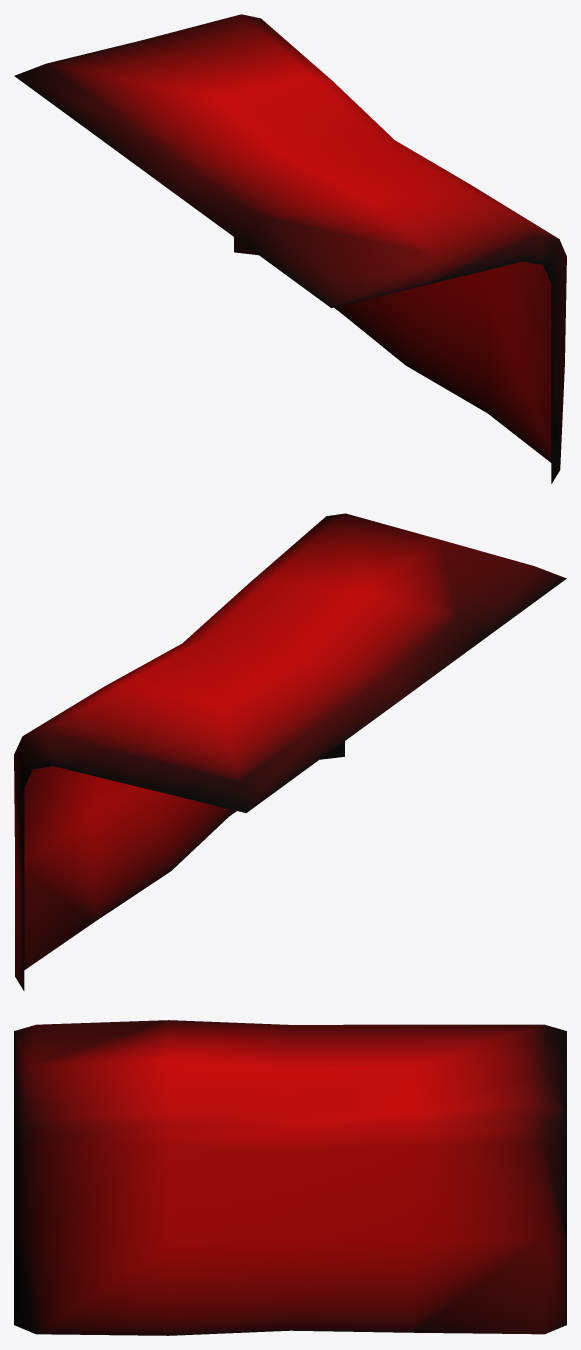
Rendered from curb_0.5_b.fbx.
The picture shows the model from 3 angles, top to bottom: view 1: azimuth 30°, elevation 25°; view 2: azimuth 150°, elevation 25°; view 3: azimuth 270°, elevation 25°; orthographic projection. The views are drawn at different scales.
Parts seen in each view (by area): view 1: curb_0.5_b; view 2: curb_0.5_b; view 3: curb_0.5_b.
Boxes of the visible parts, x1,y1,x2,y2 form: curb_0.5_b: (14, 14, 566, 483); curb_0.5_b: (14, 513, 566, 990); curb_0.5_b: (14, 1020, 566, 1335).
Size of the model in its own units: 0.223 by 0.2204 by 0.5.
